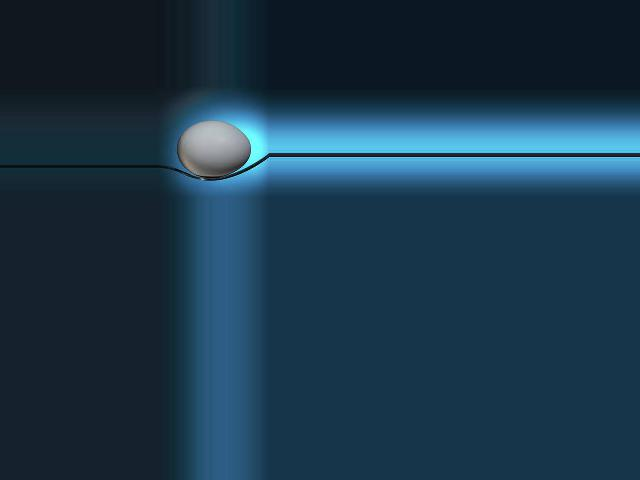egg: (176, 121, 250, 177)
